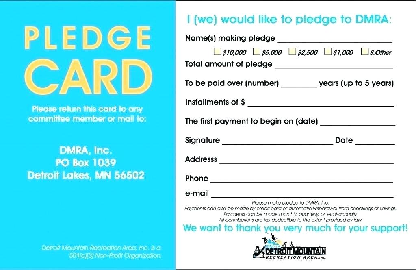checkbox: (212, 46, 223, 56), (287, 46, 298, 56), (252, 46, 262, 56), (323, 46, 333, 56), (360, 46, 369, 56)
textline: (210, 184, 396, 199), (210, 171, 394, 185), (218, 152, 399, 165), (246, 96, 396, 108), (276, 30, 395, 45), (222, 134, 334, 147), (274, 59, 395, 71), (319, 115, 397, 128), (279, 76, 319, 90), (354, 134, 396, 147)
